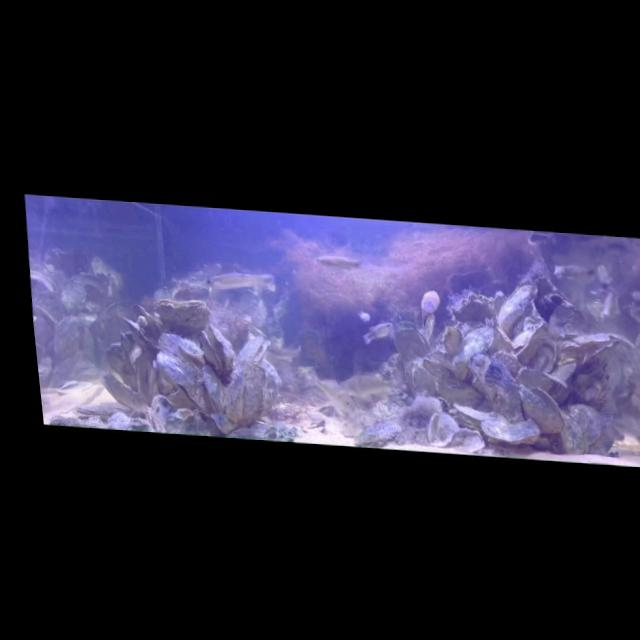Oyster-Closed: (153, 330, 212, 415), (465, 350, 527, 422), (447, 322, 498, 383), (492, 278, 542, 336), (478, 414, 542, 447), (560, 402, 606, 446), (509, 316, 550, 365), (241, 362, 272, 425), (221, 365, 251, 424), (555, 410, 591, 455), (198, 362, 228, 414), (452, 401, 508, 427), (434, 380, 482, 408), (482, 318, 516, 352), (75, 397, 131, 417), (120, 316, 152, 346)
Oyster-Indeterminate: (51, 313, 90, 376), (99, 341, 141, 392), (578, 337, 622, 378), (449, 291, 498, 327), (97, 369, 142, 408), (555, 329, 622, 354), (257, 359, 285, 418), (31, 303, 59, 362), (131, 303, 167, 342), (524, 334, 560, 372), (490, 347, 524, 381), (147, 393, 175, 433), (515, 364, 553, 393), (448, 427, 487, 454), (169, 279, 210, 304), (546, 355, 580, 384), (438, 324, 465, 356), (420, 358, 454, 379)
Oyster-Open: (514, 381, 568, 435), (154, 296, 213, 332), (199, 323, 238, 373), (389, 317, 432, 361), (423, 412, 462, 448), (234, 333, 273, 368), (28, 269, 60, 300), (317, 403, 336, 416)
